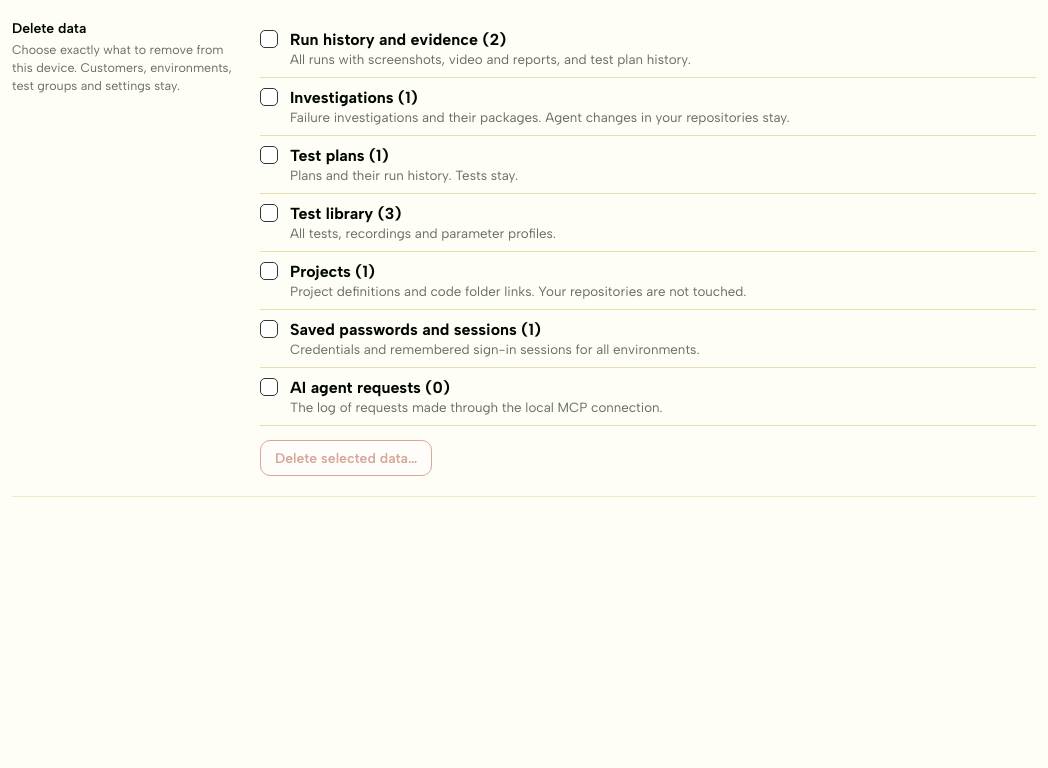
it: DataDeletionSection › asks for confirmation inline and can be cancelled without deleting
The image size is (1048, 768).
Click the checkbox labelled "Saved passwords" at [269, 329], box [260,320,278,338]
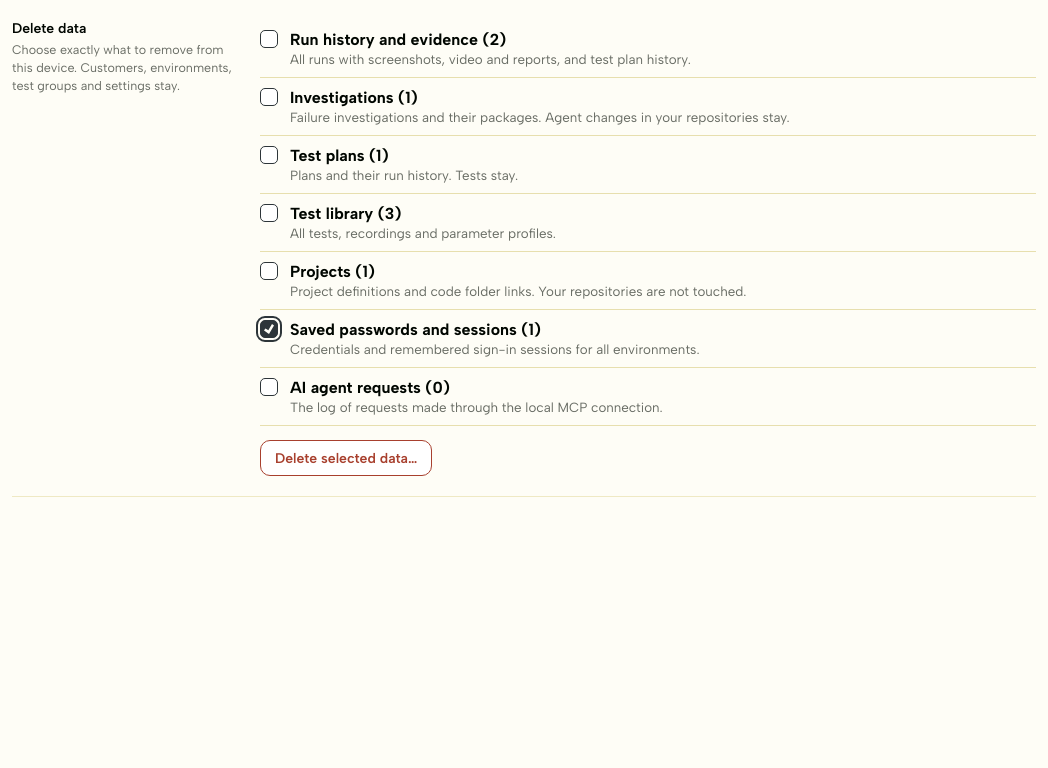
Click the button "Delete selected data…" at [346, 458], box [260,440,432,476]
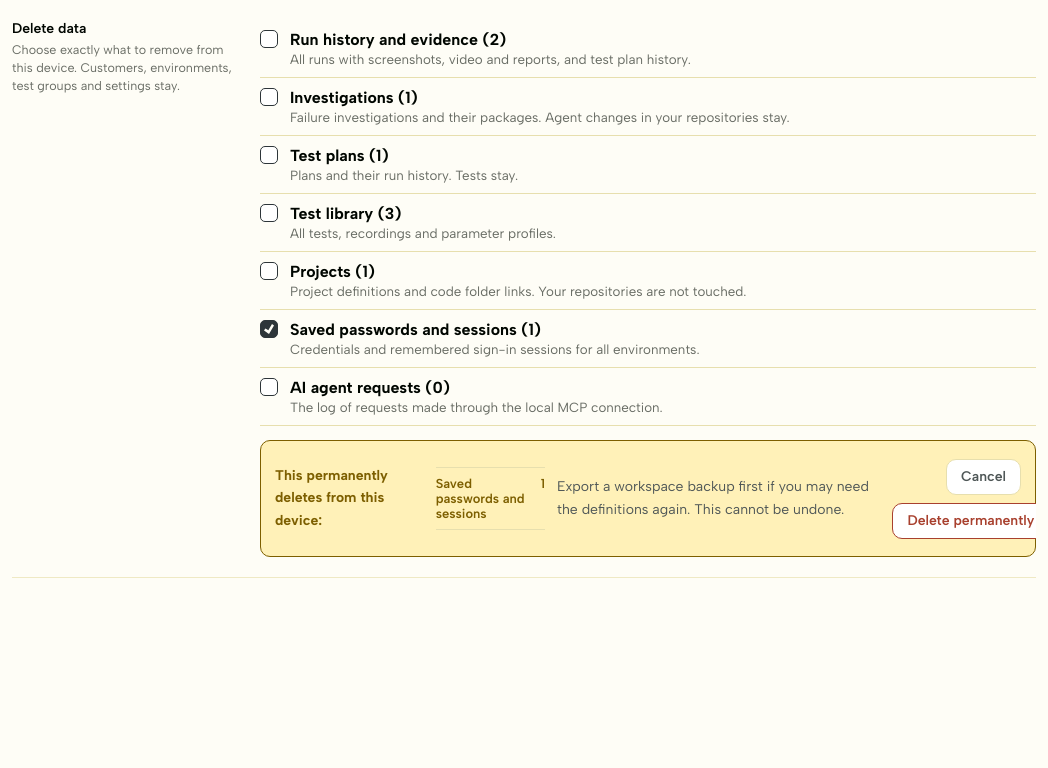
Expected: the text "This permanently deletes from this device:" is shown, [275,467,388,529]
Click the button "Cancel" at [984, 476], box [946,458,1021,494]
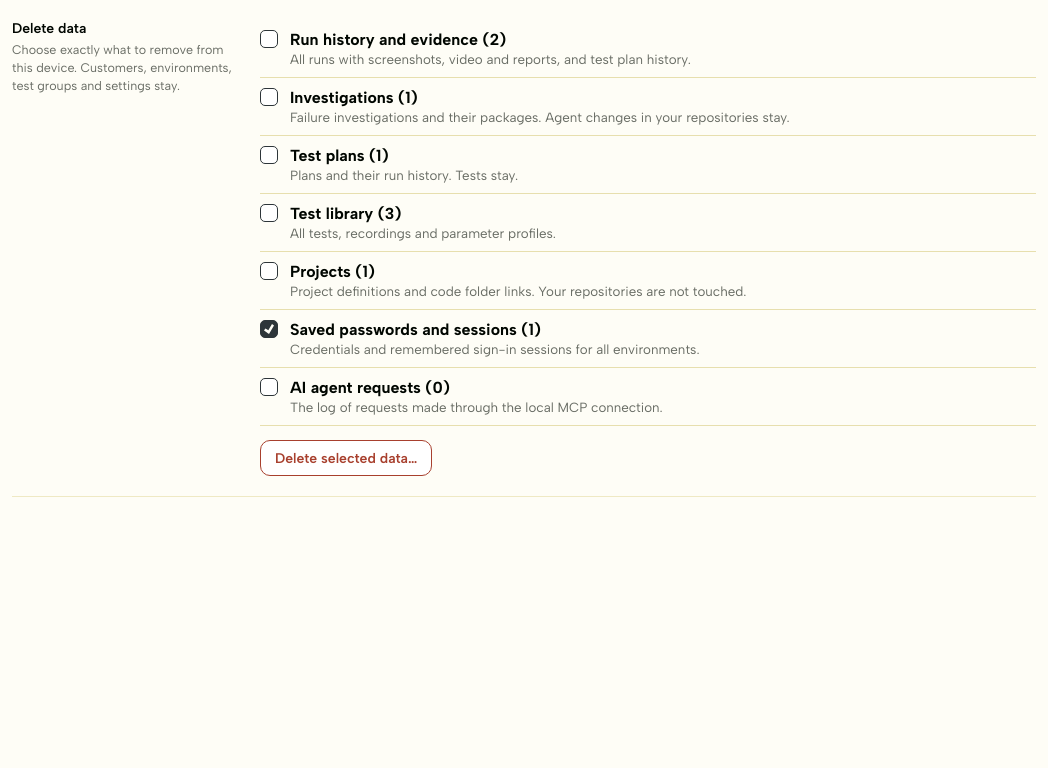
Expected: the text "permanently deletes from this device" is gone
